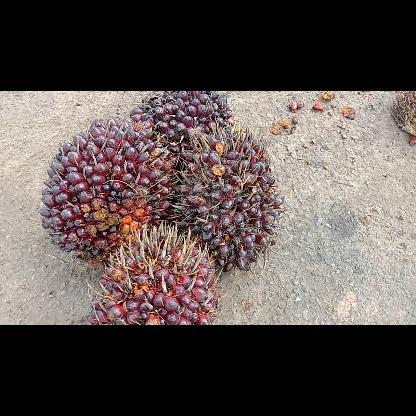Kurang masak: (173, 122, 289, 276), (81, 222, 221, 324), (126, 92, 234, 168)
TBS masak: (35, 116, 177, 270)
